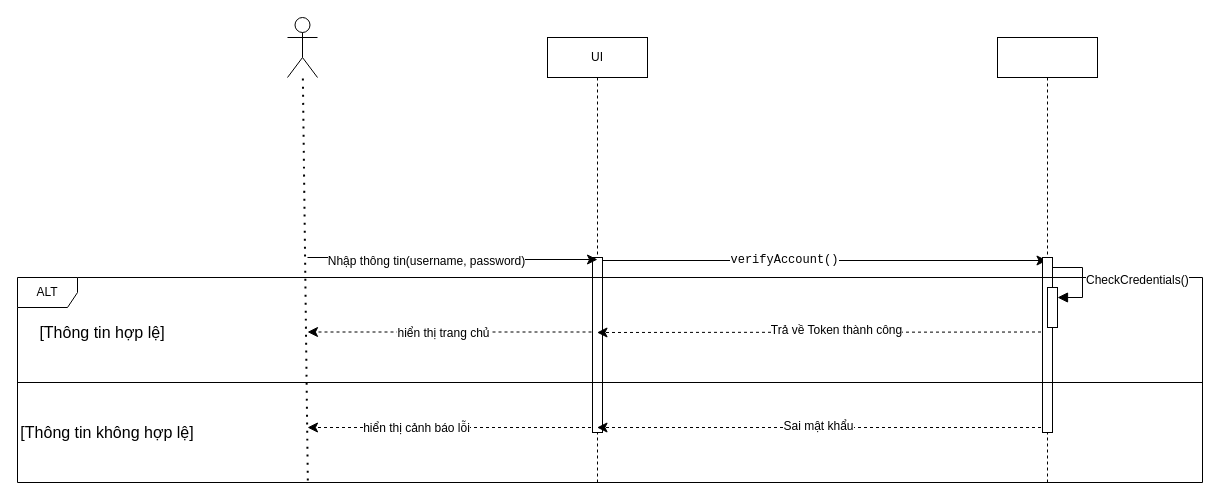
The diagram is 1220 pixels wide and 500 high, and some of its shapes have lost their labels. Here are the shapes that lost their labels. From the top down, the box of each, then its label:
(286, 16, 318, 78): Khách hàng
(996, 36, 1098, 482): AuthServer
